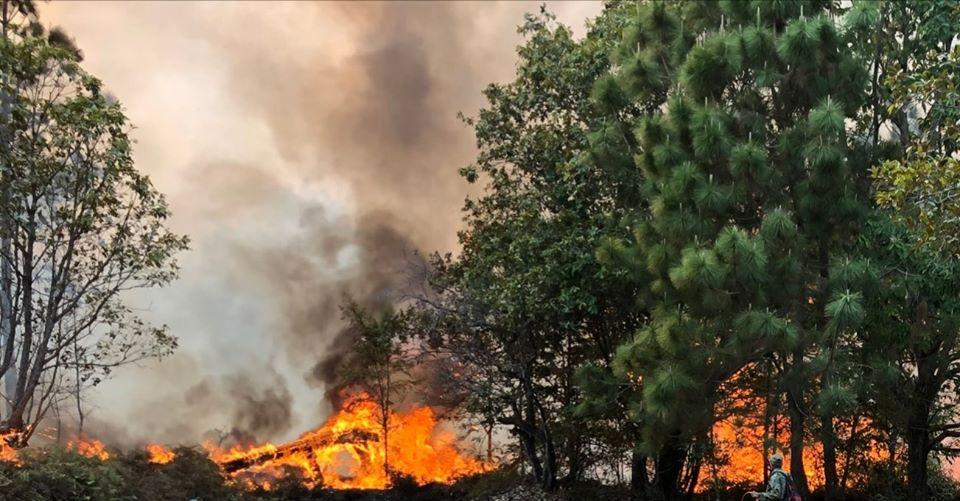fire: (3, 238, 948, 501)
